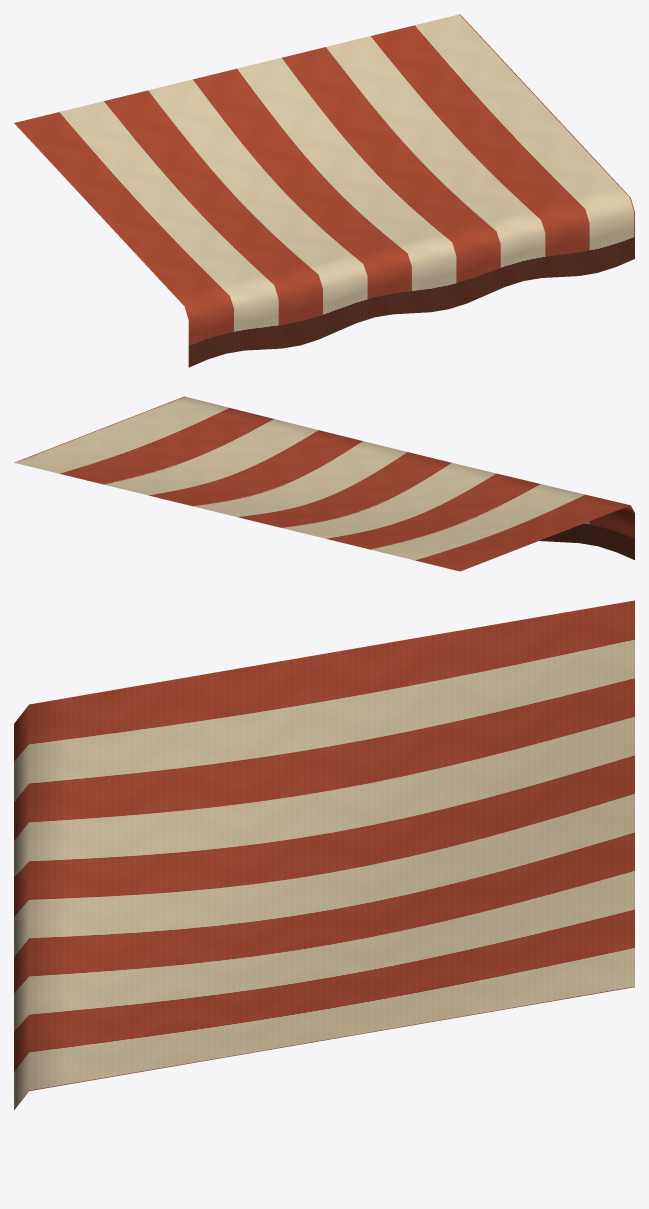
Rendered from cloth_market_awning.glb.
The picture shows the model from 3 angles, top to bottom: view 1: azimuth 30°, elevation 25°; view 2: azimuth 150°, elevation 25°; view 3: azimuth 270°, elevation 25°; orthographic projection. The views are drawn at different scales.
Parts seen in each view (by area): view 1: Cloth_Market_Awning; view 2: Cloth_Market_Awning; view 3: Cloth_Market_Awning.
Part boxes in pixels (bbox=[...]): Cloth_Market_Awning: bbox=[14, 14, 634, 367]; Cloth_Market_Awning: bbox=[14, 396, 634, 571]; Cloth_Market_Awning: bbox=[14, 600, 634, 1109].
Bounding box in the file's own units: 2.8 × 0.73 × 1.9.
1 material, 1 textured.
